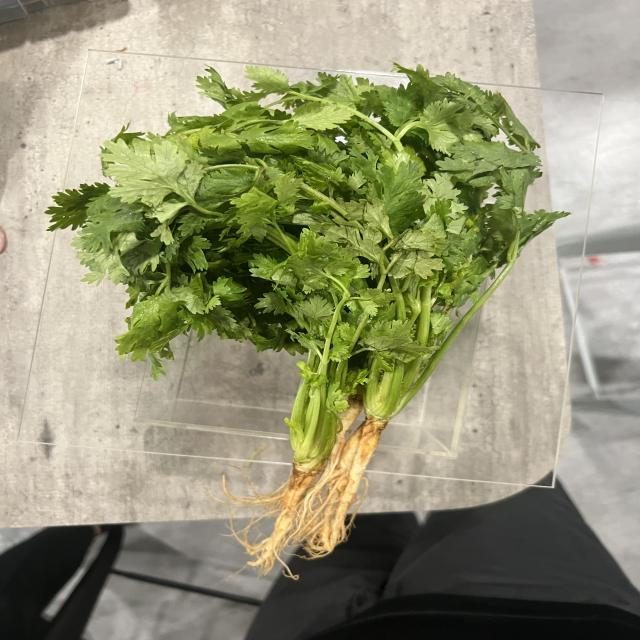cilantro: (43, 68, 555, 466)
